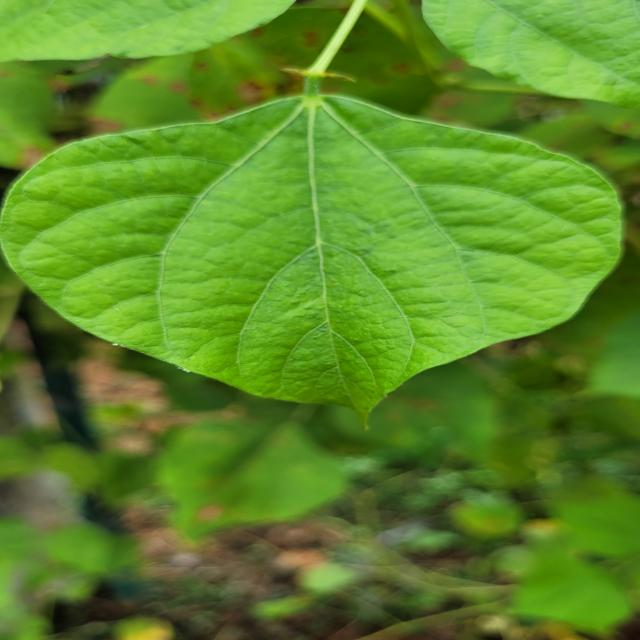Dolicos bean_healthy: (6, 91, 626, 415), (418, 0, 640, 112)
